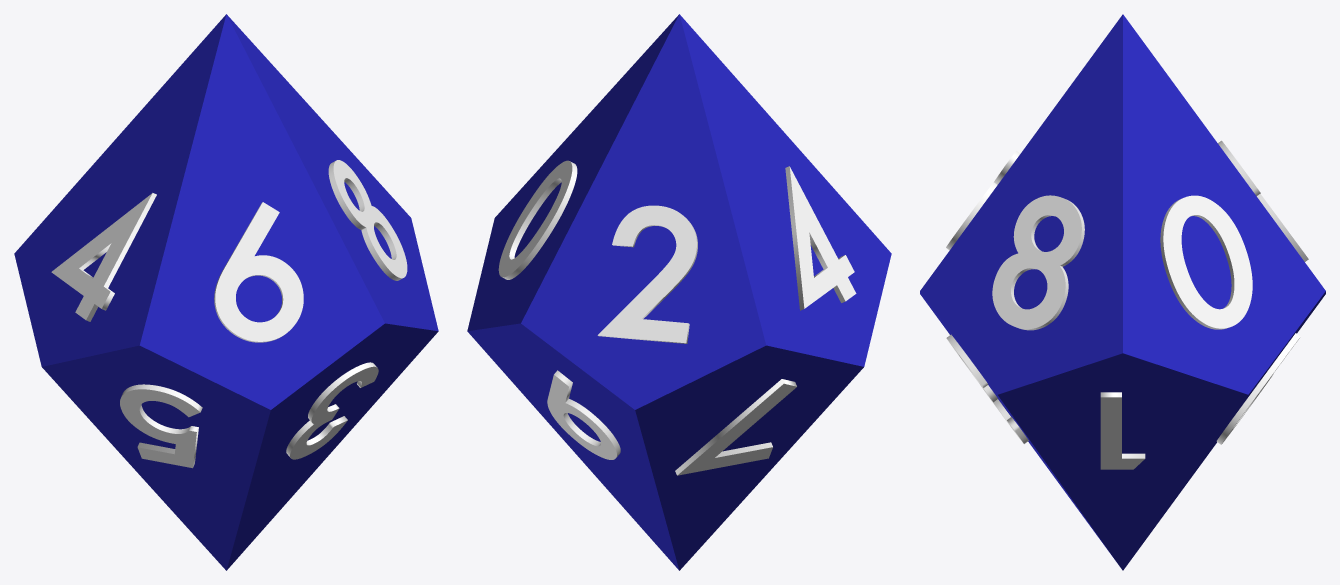
The model's file is d10_ones.glb.
3 views of the same model, side by side, from view 1: azimuth 30°, elevation 25°; view 2: azimuth 150°, elevation 25°; view 3: azimuth 270°, elevation 25° (orthographic).
Visible parts, largest first — view 1: D10_Ones; view 2: D10_Ones; view 3: D10_Ones.
Boxes of the visible parts, x1=… form: D10_Ones: x1=14, y1=14, x2=438, y2=570; D10_Ones: x1=467, y1=14, x2=891, y2=570; D10_Ones: x1=920, y1=14, x2=1325, y2=570.
Bounding box in the file's own units: 2 × 2.88 × 1.9.
